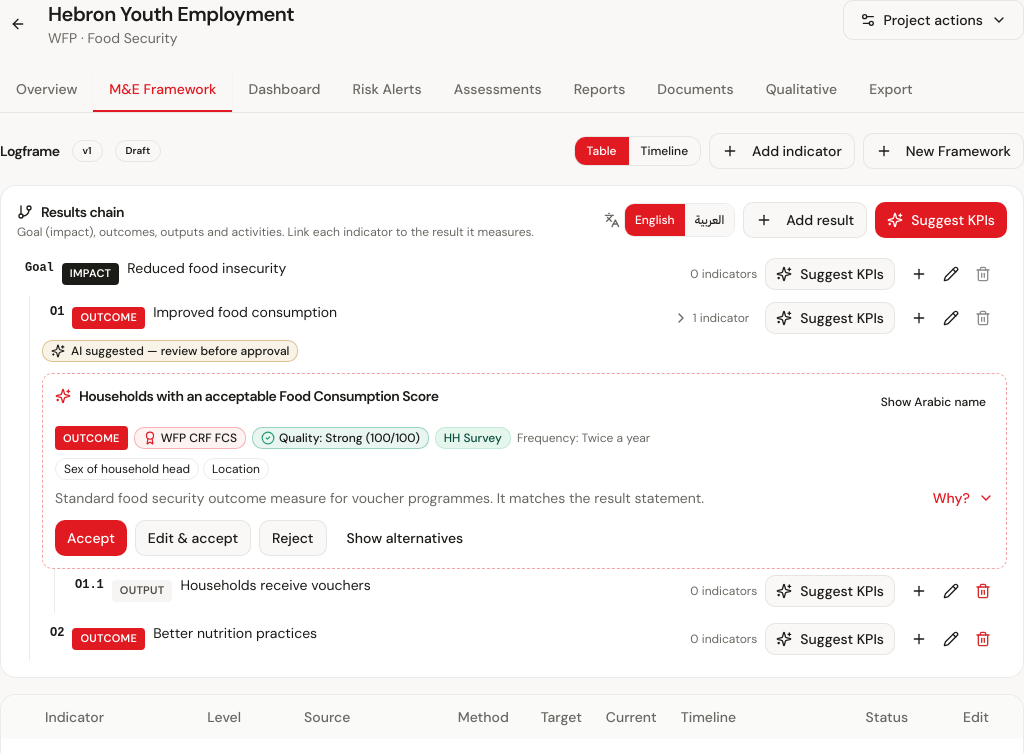
Test case: Project page: the KPI Assistant on an archived project › a 409 project_archived message under the framework goes when the project is restored
Check: the heading "Hebron Youth Employment" is shown, box [48,0,294,28]
Click the button with aria-label "Suggest KPIs for all results". click: [941, 220]
box: [875,202,1007,238]
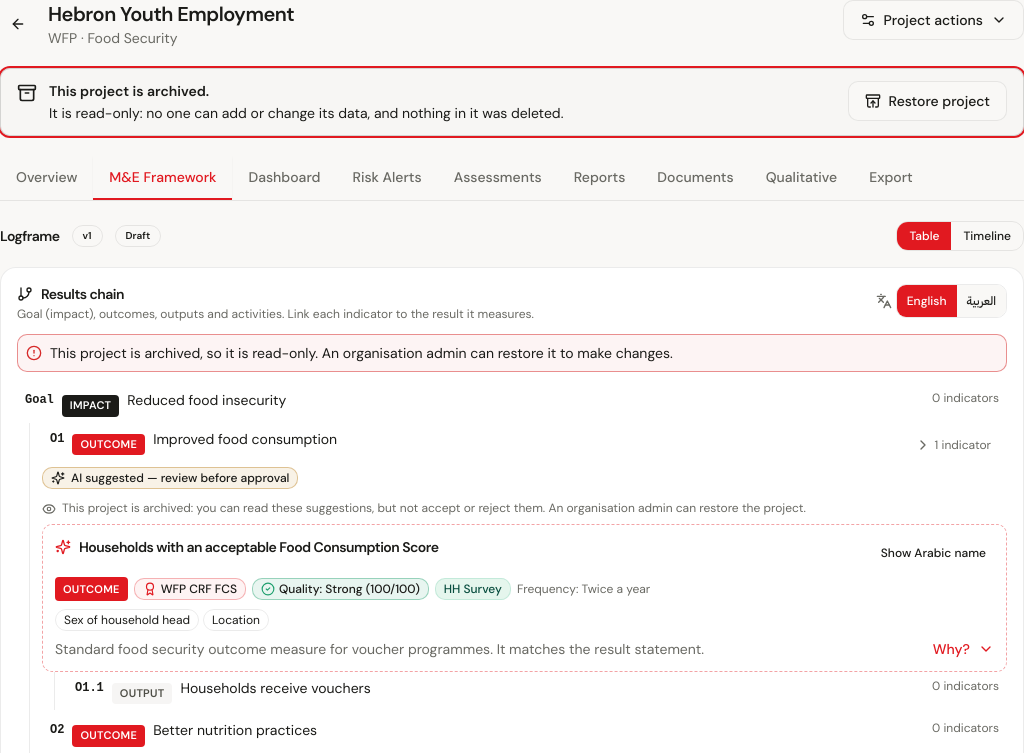
Click the button "Restore project". click: [927, 101]
box: [848,81,1007,121]
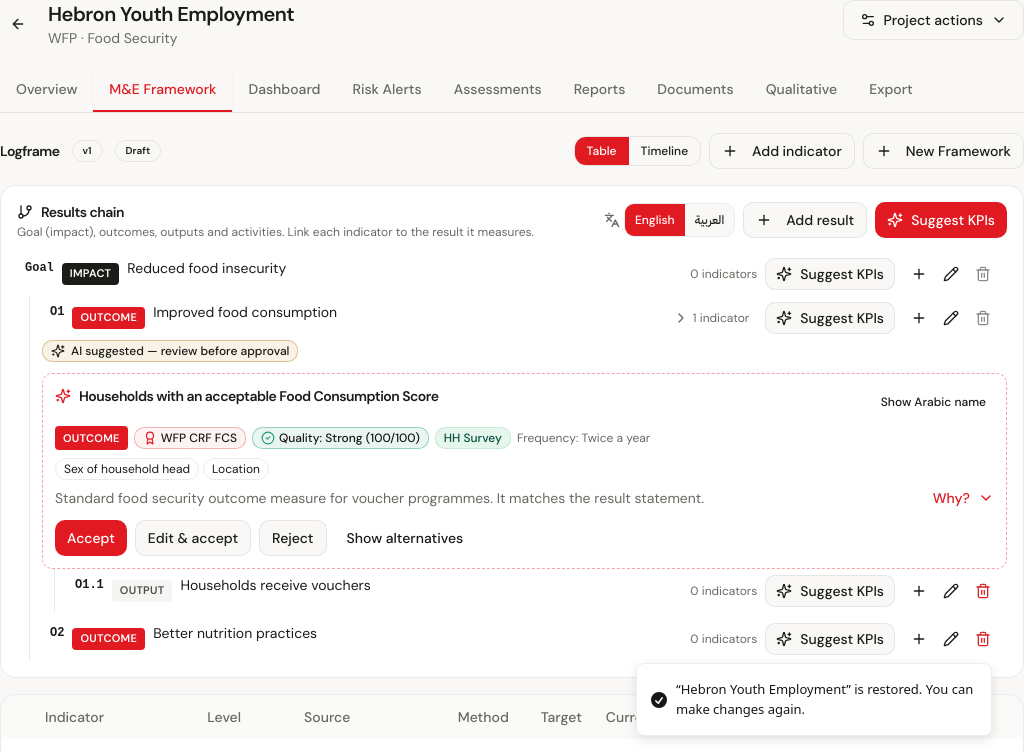
Check: the text "This project is archived." is gone
Check: the button with aria-label "Suggest KPIs for all results" is shown, box [875,202,1007,238]
